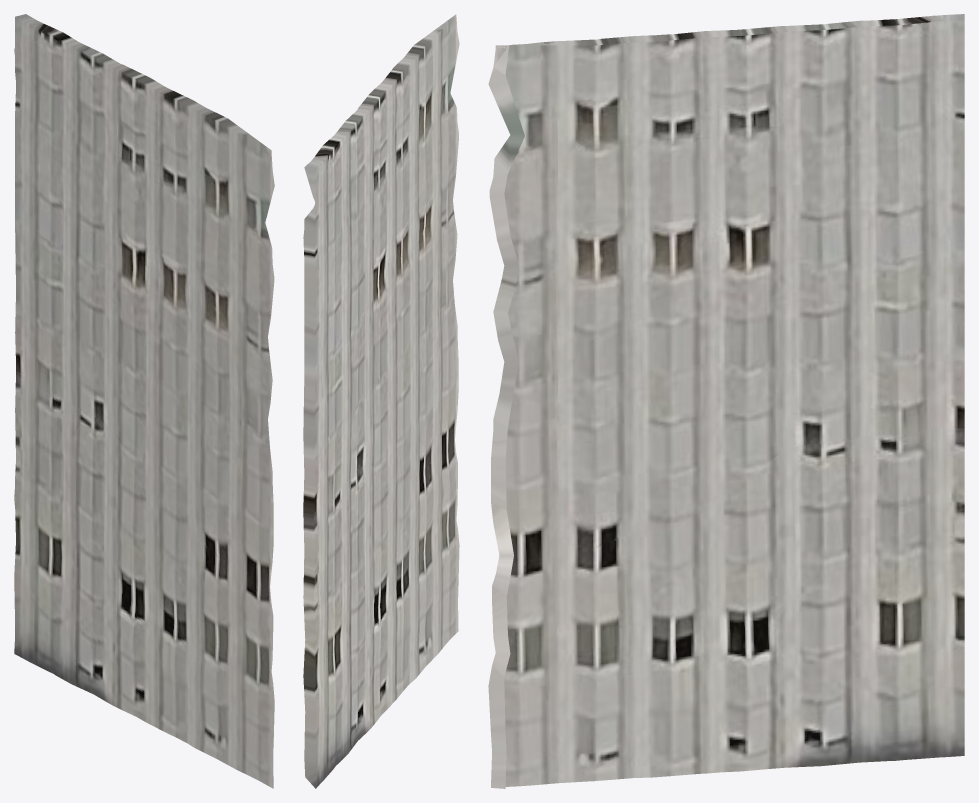
Rendered from z20-167749-405243-h1-yup-uvflip-v3-world.glb.
3 views of the same model, side by side, from view 1: azimuth 30°, elevation 25°; view 2: azimuth 150°, elevation 25°; view 3: azimuth 270°, elevation 25° (orthographic). The views are drawn at different scales.
Size of the model in its own units: 2.48 by 26.88 by 15.6.
Materials: 1 (1 with a texture image).
